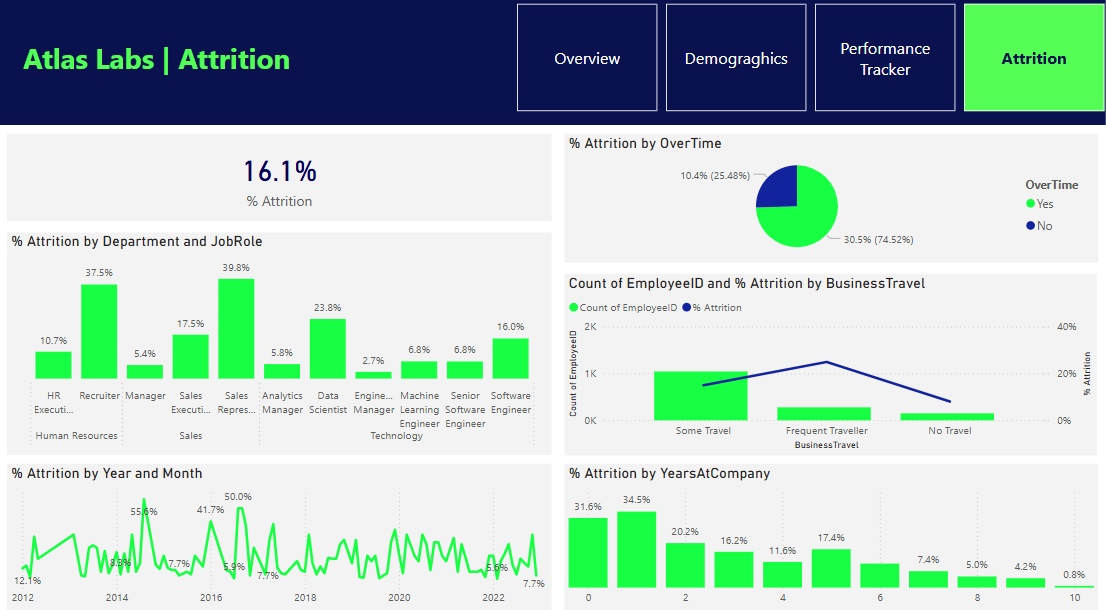

This screenshot's page, from the dashboard's own definition file:
{"tool":"powerbi","page":{"name":"Attrition","canvas":[1280,720],"ordinal":3},"visuals":[{"type":"shape","box":[0,0,1279.7,155.8],"z":0},{"type":"pageNavigator","box":[599.6,16.2,680.4,124.4],"z":1000},{"type":"card","fields":{"Values":["Employee.% Attrition"]},"box":[11.5,165.9,629,101],"z":2000},{"type":"columnChart","fields":{"Y":["Employee.% Attrition"],"Category":["Employee.Department","Employee.JobRole"]},"box":[11.5,279.9,629,256.8],"z":3000},{"type":"lineStackedColumnComboChart","fields":{"Y2":["Employee.% Attrition"],"Y":["CountNonNull(Employee.EmployeeID)"],"Category":["Employee.BusinessTravel"]},"box":[655,327.5,614.6,209.2],"z":4000},{"type":"pieChart","fields":{"Category":["Employee.OverTime"],"Y":["Employee.% Attrition"]},"box":[655,165.9,616.1,148.6],"z":5000},{"type":"columnChart","fields":{"Y":["Employee.% Attrition"],"Category":["Employee.YearsAtCompany"]},"box":[655,546.8,616.1,173.1],"z":6000},{"type":"lineChart","fields":{"Category":["Employee.HireDate.Variation.Date Hierarchy.Year","Employee.HireDate.Variation.Date Hierarchy.Month"],"Y":["Employee.% Attrition"]},"box":[11.5,546.8,629,173.1],"z":7000}]}

Visuals, with their boxes in screenshot pixels (x1, y1, x2, y2), scaled from the page's 1280x720 canvas onto the 1106x610 screenshot:
shape: 0/0/1105/132
pageNavigator: 518/14/1105/119
card - Employee.% Attrition: 10/141/553/226
columnChart - Employee.% Attrition x Employee.Department: 10/237/553/455
lineStackedColumnComboChart - Employee.% Attrition x CountNonNull(Employee.EmployeeID): 566/277/1097/455
pieChart - Employee.OverTime x Employee.% Attrition: 566/141/1098/266
columnChart - Employee.% Attrition x Employee.YearsAtCompany: 566/463/1098/609
lineChart - Employee.HireDate.Variation.Date Hierarchy.Year x Employee.HireDate.Variation.Date Hierarchy.Month: 10/463/553/609
